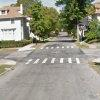Crosswalk: (24, 45, 91, 72)
